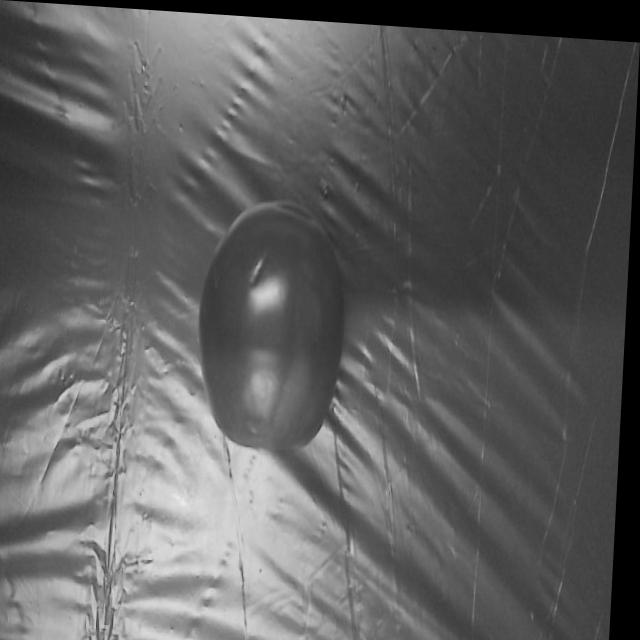kirmizi: (189, 175, 379, 473)
